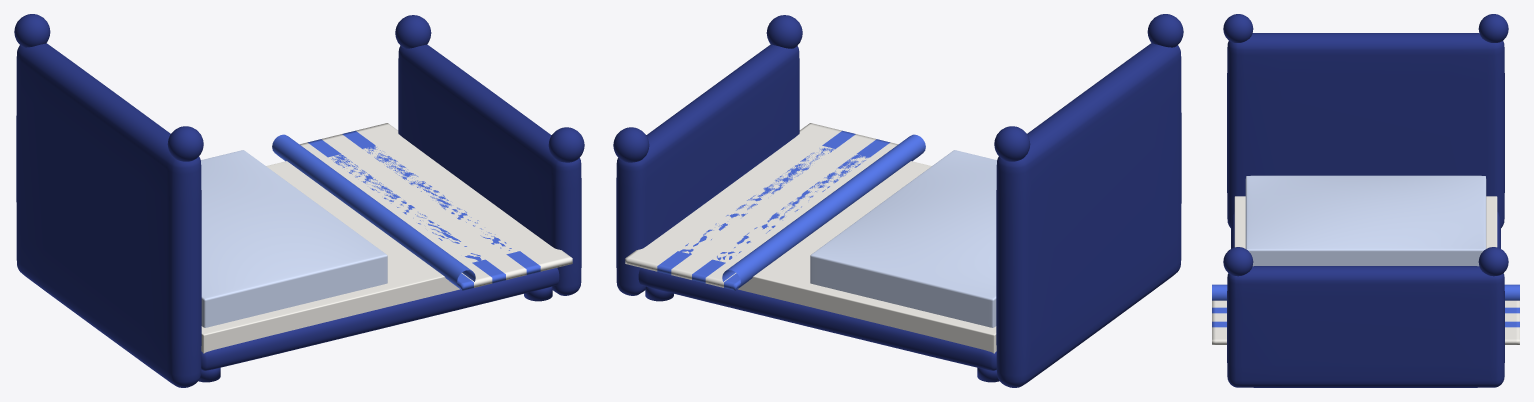
The model's file is bed.glb.
3 views of the same model, side by side, from view 1: azimuth 30°, elevation 25°; view 2: azimuth 150°, elevation 25°; view 3: azimuth 270°, elevation 25° (orthographic). The views are drawn at different scales.
Visible parts, largest first — view 1: bed_headboard, bed_pillow, bed_footboard, bed_mattress, bed_blanket, bed_rail, bed_blanket_hem, bed_knob.001, bed_knob.003, bed_knob, bed_knob.002; view 2: bed_headboard, bed_pillow, bed_footboard, bed_mattress, bed_blanket, bed_rail, bed_blanket_hem, bed_knob, bed_knob.002, bed_knob.001, bed_knob.003; view 3: bed_headboard, bed_footboard, bed_pillow, bed_blanket, bed_mattress, bed_knob.002, bed_knob.003, bed_knob, bed_knob.001, bed_blanket_hem, bed_rail.
Part boxes in pixels (x1,y1,x2,y2): bed_headboard: [16, 43, 201, 387]; bed_pillow: [201, 150, 387, 327]; bed_footboard: [398, 44, 581, 295]; bed_mattress: [201, 142, 535, 353]; bed_blanket: [279, 123, 572, 290]; bed_rail: [201, 268, 559, 370]; bed_blanket_hem: [272, 134, 475, 289]; bed_knob.001: [167, 126, 203, 161]; bed_knob.003: [548, 127, 584, 162]; bed_knob: [14, 14, 50, 47]; bed_knob.002: [395, 15, 431, 48]; bed_headboard: [996, 43, 1181, 387]; bed_pillow: [810, 150, 996, 327]; bed_footboard: [616, 44, 799, 295]; bed_mattress: [662, 141, 996, 353]; bed_blanket: [625, 123, 918, 290]; bed_rail: [638, 268, 996, 370]; bed_blanket_hem: [722, 134, 925, 289]; bed_knob: [994, 126, 1030, 161]; bed_knob.002: [613, 127, 649, 162]; bed_knob.001: [1147, 14, 1183, 47]; bed_knob.003: [766, 15, 802, 48]; bed_headboard: [1227, 33, 1504, 227]; bed_footboard: [1227, 266, 1504, 387]; bed_pillow: [1245, 175, 1486, 266]; bed_blanket: [1212, 300, 1519, 344]; bed_mattress: [1234, 196, 1497, 248]; bed_knob.002: [1478, 247, 1508, 276]; bed_knob.003: [1223, 247, 1253, 276]; bed_knob: [1478, 14, 1508, 42]; bed_knob.001: [1223, 14, 1253, 42]; bed_blanket_hem: [1212, 284, 1519, 300]; bed_rail: [1231, 212, 1500, 248].
Bounding box in the file's own units: 5.27 × 3.18 × 4.1.
